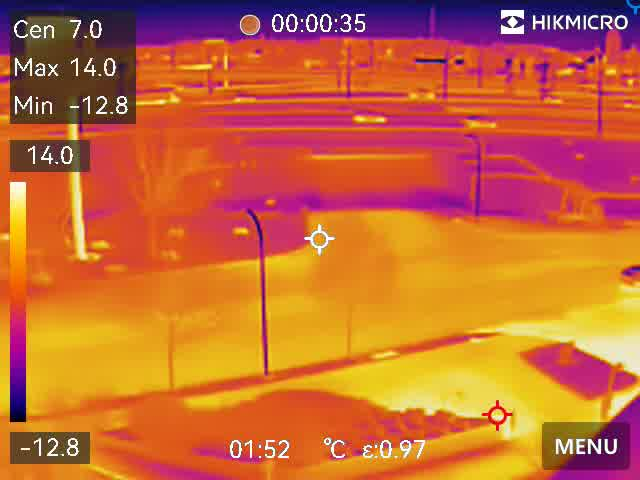heavyTruck: (126, 92, 181, 106)
vehicle: (404, 85, 437, 105), (462, 117, 502, 132), (348, 111, 387, 126), (229, 94, 259, 108), (540, 94, 562, 107)
